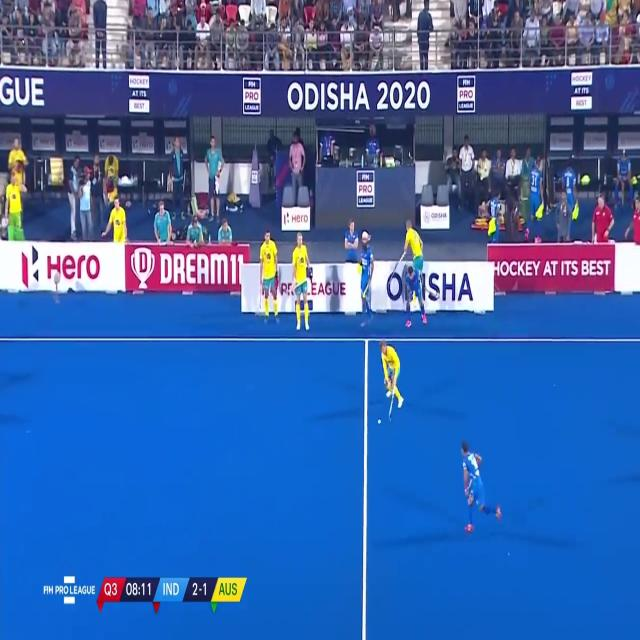ball: (376, 417, 383, 426)
